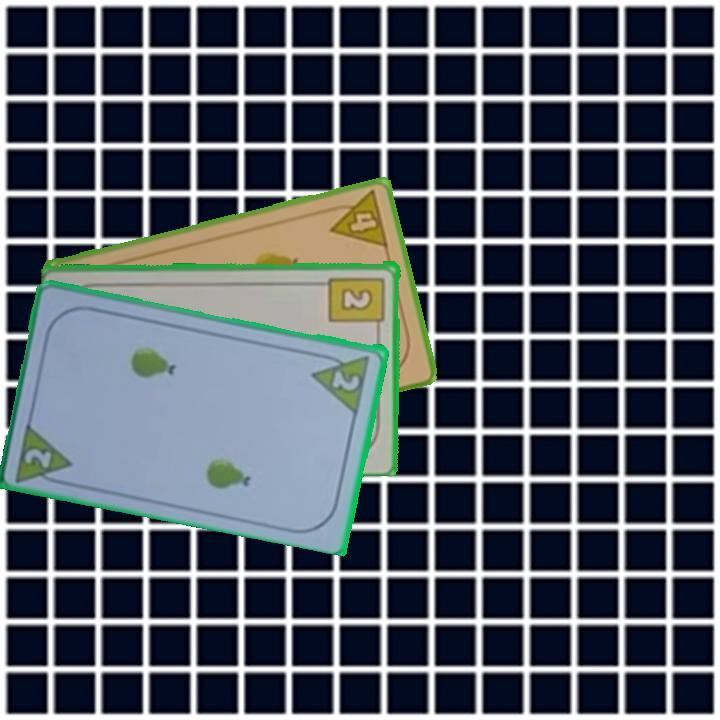2b: (327, 273, 388, 334)
2p: (309, 348, 373, 415), (21, 444, 55, 471)
4p: (322, 187, 391, 251)
